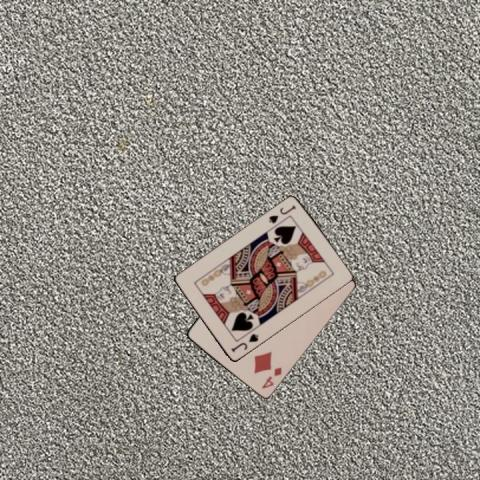4d: (259, 364, 283, 390)
Js: (228, 331, 260, 354), (266, 202, 298, 225)
